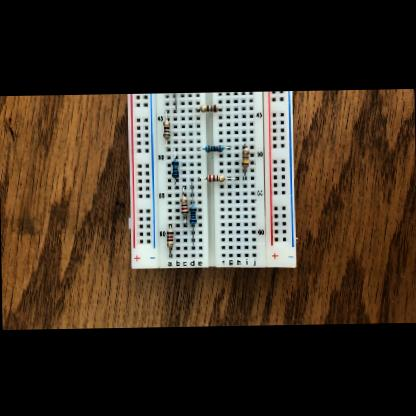breadboard: (125, 90, 296, 268)
resistor: (161, 118, 170, 139), (241, 146, 249, 167), (180, 194, 188, 213), (188, 204, 196, 223), (166, 227, 173, 246), (204, 144, 223, 151), (205, 173, 224, 180), (172, 158, 179, 176), (200, 103, 218, 110)
wire: (190, 180, 192, 204), (174, 178, 177, 188), (165, 109, 168, 118), (182, 185, 185, 194), (192, 224, 193, 247), (226, 176, 237, 178), (174, 147, 176, 158), (184, 214, 186, 224), (166, 139, 168, 148), (169, 247, 171, 256), (196, 146, 204, 148), (198, 176, 206, 178), (244, 141, 247, 146), (244, 168, 245, 179), (196, 107, 199, 110), (218, 106, 222, 108), (170, 224, 172, 228), (224, 146, 230, 147)
